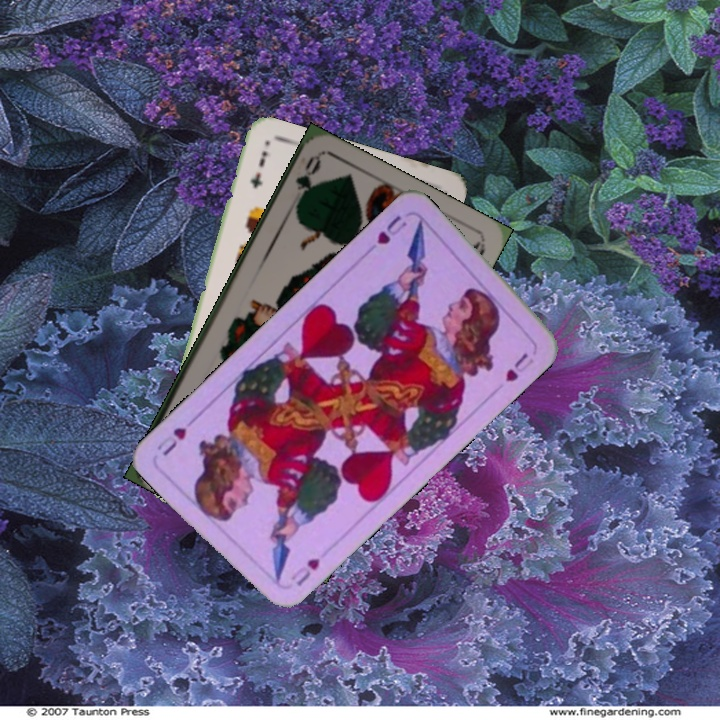E7: (246, 147, 271, 191)
GO: (291, 152, 324, 211)
HU: (362, 211, 410, 256), (292, 552, 323, 589)
